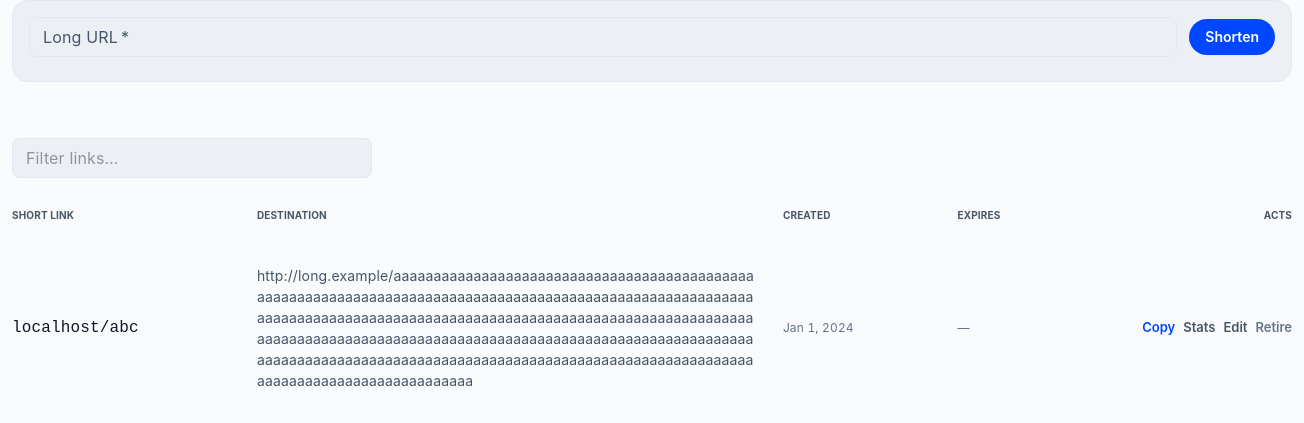
Scenario: DashboardPage › long destinations stay inside the row › constrains the in-row editor to the row width: the entering fills the line it is given
Expected: the element with test id "link-row-abc" is shown, [12,249,1292,407]
Click the button with test id "edit-abc": (1236,328) [1224,314,1248,341]
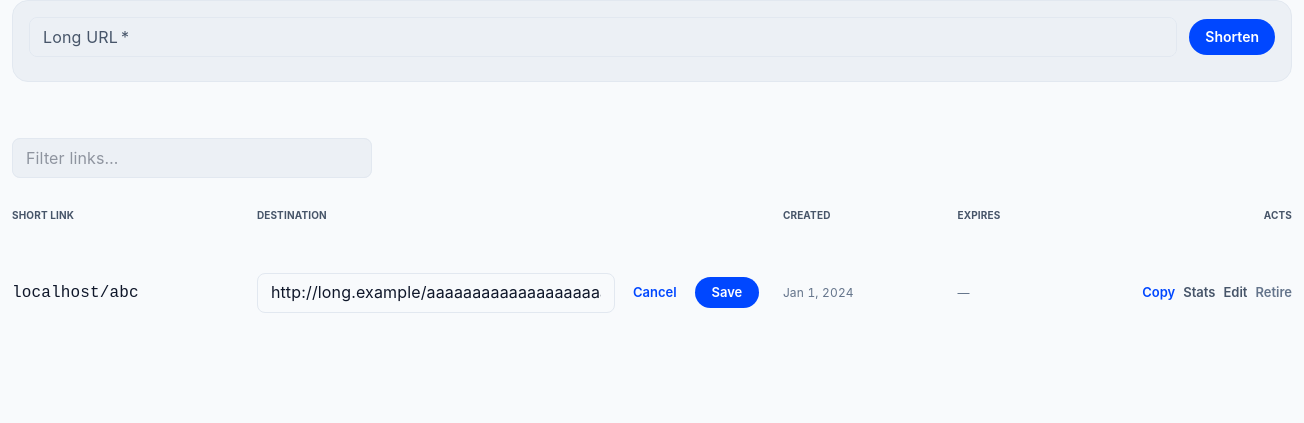
Now the element with test id "edit-url-input-abc" is shown, box [257,273,615,313]
